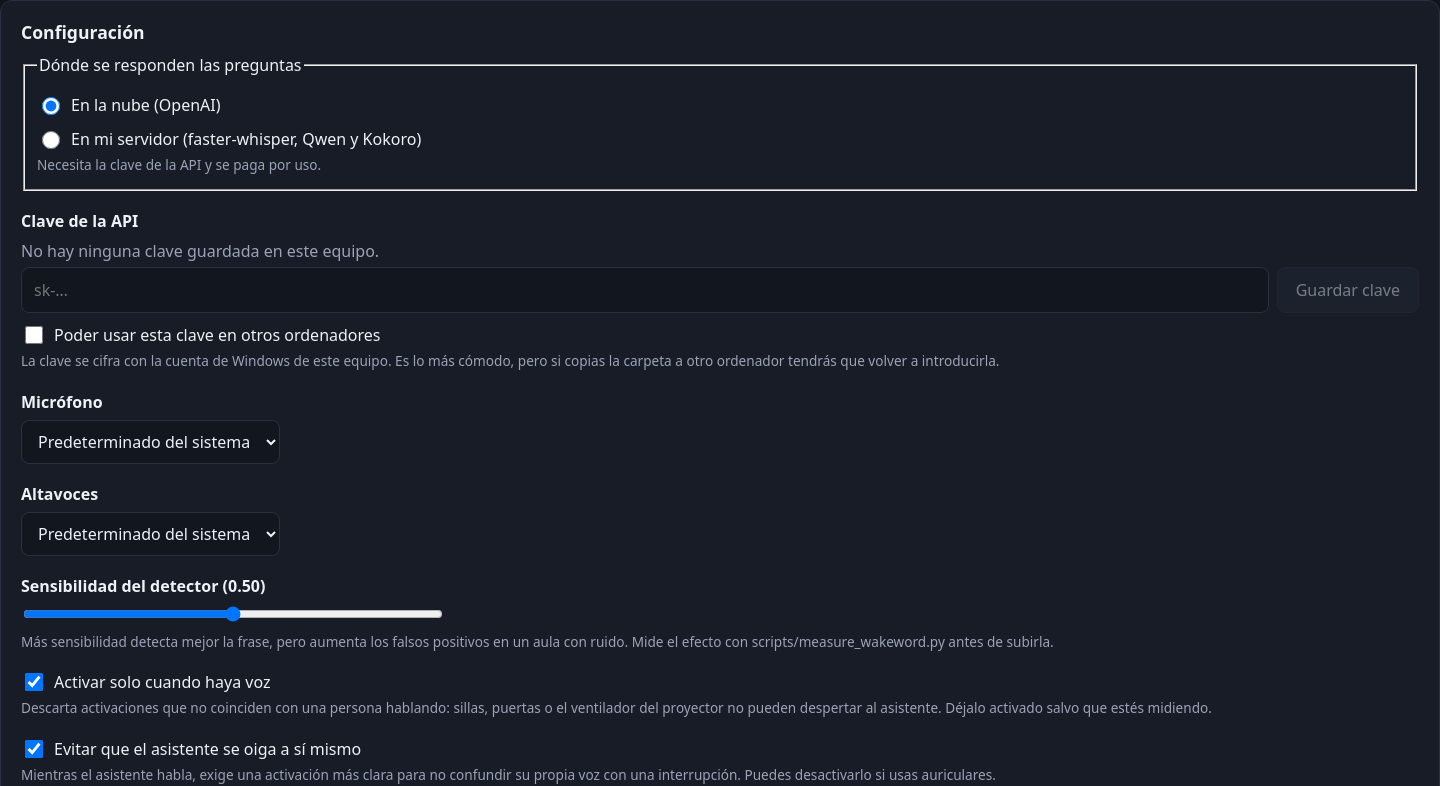
Test: SettingsPanel, clave portátil › explica el coste de cada opción antes de elegir
Expected: the text "cuenta de Windows de este equipo" is shown, [21,351,999,370]
Click the checkbox labelled "Poder usar esta clave en otros ordenadores": (34,335) [25,326,43,344]
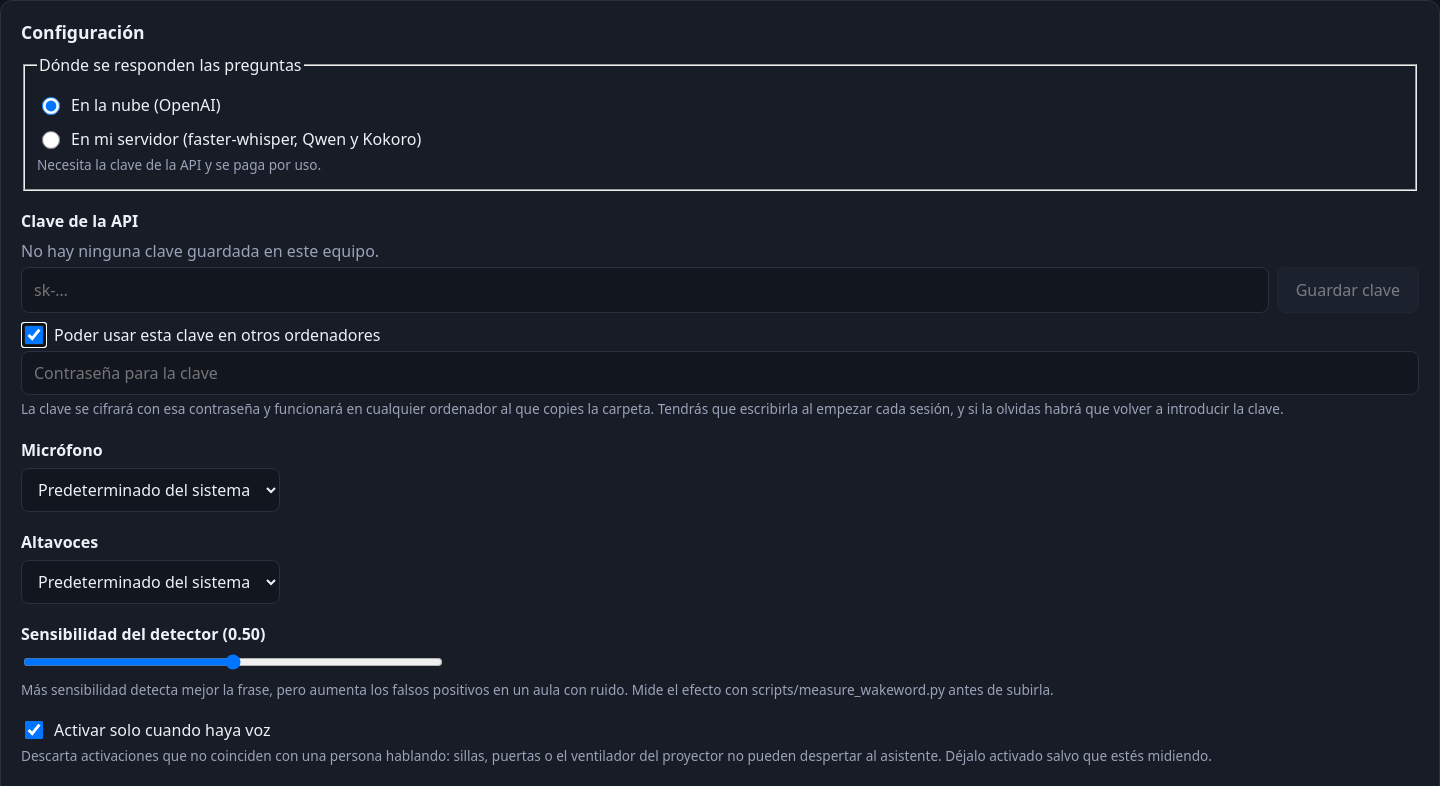
Expected: the text "si la olvidas" is shown, [21,399,1284,418]
